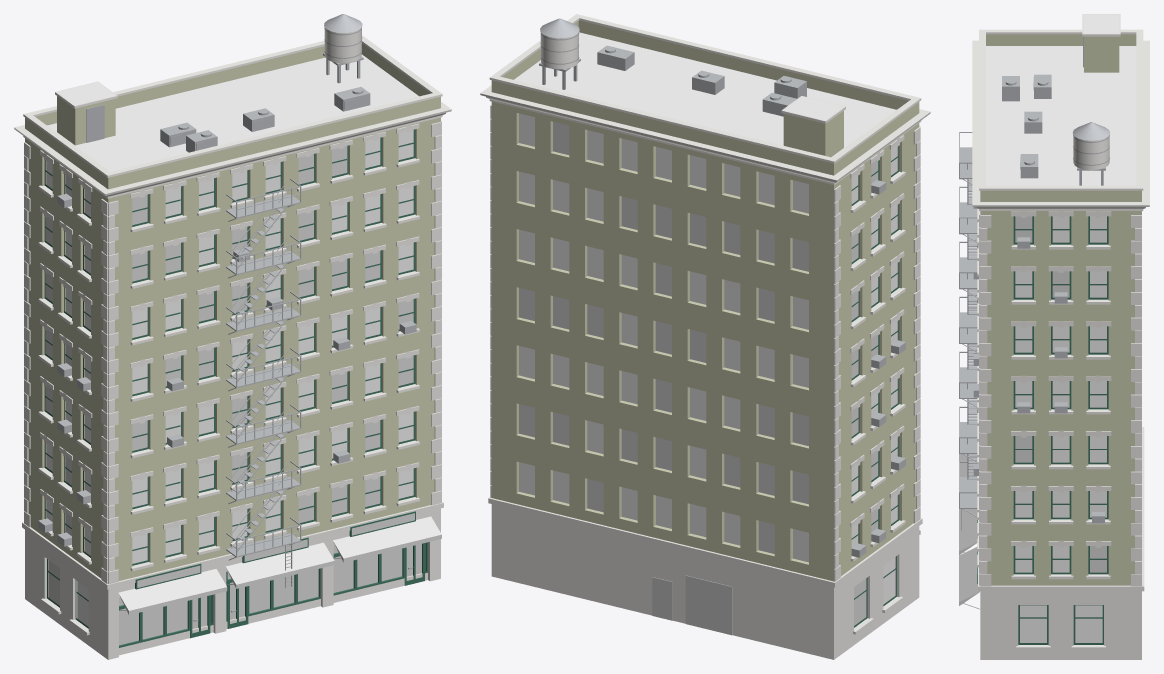
File: midtown_w74f7s.glb
3 views of the same model, side by side, from view 1: azimuth 30°, elevation 25°; view 2: azimuth 150°, elevation 25°; view 3: azimuth 270°, elevation 25° (orthographic). The views are drawn at different scales.
Visible parts, largest first — view 1: midtown_w74f7s_Walls, midtown_w74f7s_Trim, midtown_w74f7s_WindowsLit, midtown_w74f7s_Glass, midtown_w74f7s_Details, midtown_w74f7s_Roof, midtown_w74f7s_Frames, midtown_w74f7s_Awning, midtown_w74f7s_Sign; view 2: midtown_w74f7s_Walls, midtown_w74f7s_Trim, midtown_w74f7s_Glass, midtown_w74f7s_WindowsLit, midtown_w74f7s_Roof, midtown_w74f7s_Details, midtown_w74f7s_Doors, midtown_w74f7s_Frames; view 3: midtown_w74f7s_Walls, midtown_w74f7s_Trim, midtown_w74f7s_Roof, midtown_w74f7s_Details, midtown_w74f7s_Glass, midtown_w74f7s_Frames, midtown_w74f7s_Awning, midtown_w74f7s_WindowsLit.
Part boxes in pixels (left/top/right/bottom): midtown_w74f7s_Walls: left=25, top=43, right=440, bottom=580; midtown_w74f7s_Trim: left=14, top=27, right=451, bottom=659; midtown_w74f7s_WindowsLit: left=46, top=146, right=421, bottom=645; midtown_w74f7s_Glass: left=46, top=129, right=413, bottom=626; midtown_w74f7s_Details: left=38, top=14, right=416, bottom=621; midtown_w74f7s_Roof: left=47, top=54, right=418, bottom=171; midtown_w74f7s_Frames: left=44, top=129, right=428, bottom=647; midtown_w74f7s_Awning: left=118, top=516, right=441, bottom=614; midtown_w74f7s_Sign: left=137, top=513, right=414, bottom=587; midtown_w74f7s_Walls: left=491, top=20, right=919, bottom=581; midtown_w74f7s_Trim: left=480, top=14, right=930, bottom=659; midtown_w74f7s_Glass: left=519, top=113, right=897, bottom=604; midtown_w74f7s_WindowsLit: left=519, top=121, right=877, bottom=625; midtown_w74f7s_Roof: left=514, top=32, right=896, bottom=157; midtown_w74f7s_Details: left=539, top=18, right=905, bottom=557; midtown_w74f7s_Doors: left=652, top=575, right=732, bottom=635; midtown_w74f7s_Frames: left=851, top=146, right=899, bottom=627; midtown_w74f7s_Walls: left=980, top=34, right=1141, bottom=585; midtown_w74f7s_Trim: left=972, top=14, right=1149, bottom=659; midtown_w74f7s_Roof: left=986, top=14, right=1136, bottom=185; midtown_w74f7s_Details: left=959, top=36, right=1110, bottom=609; midtown_w74f7s_Glass: left=1015, top=216, right=1106, bottom=642; midtown_w74f7s_Frames: left=977, top=216, right=1108, bottom=644; midtown_w74f7s_Awning: left=959, top=454, right=979, bottom=605; midtown_w74f7s_WindowsLit: left=1015, top=216, right=1106, bottom=572.
Bounding box in the file's own units: 77.12 × 113 × 37.76.
